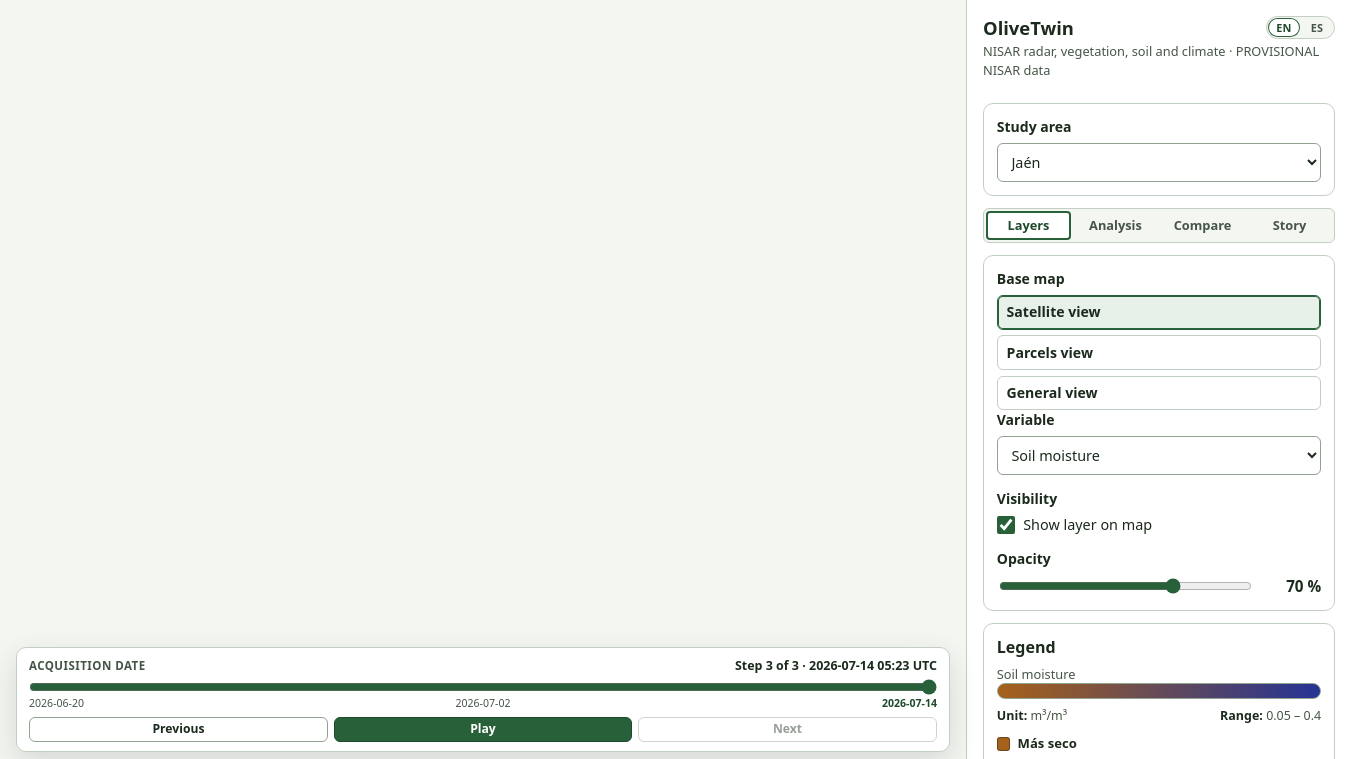
Scenario: App — idioma de la interfaz › arranca en inglés, traduce pestañas y avisos, y el selector cambia a español
Expected: the heading "OliveTwin" is shown, [983,16,1074,39]
Expected: the elements with class "ot-tabs__tab" read "Layers", "Analysis", "Compare", "Story", in this order, [986,211,1071,240]; [1073,211,1158,240]; [1160,211,1245,240]; [1247,211,1332,240]
Click the button "ES" at (1317, 28), box [1301,18,1333,37]
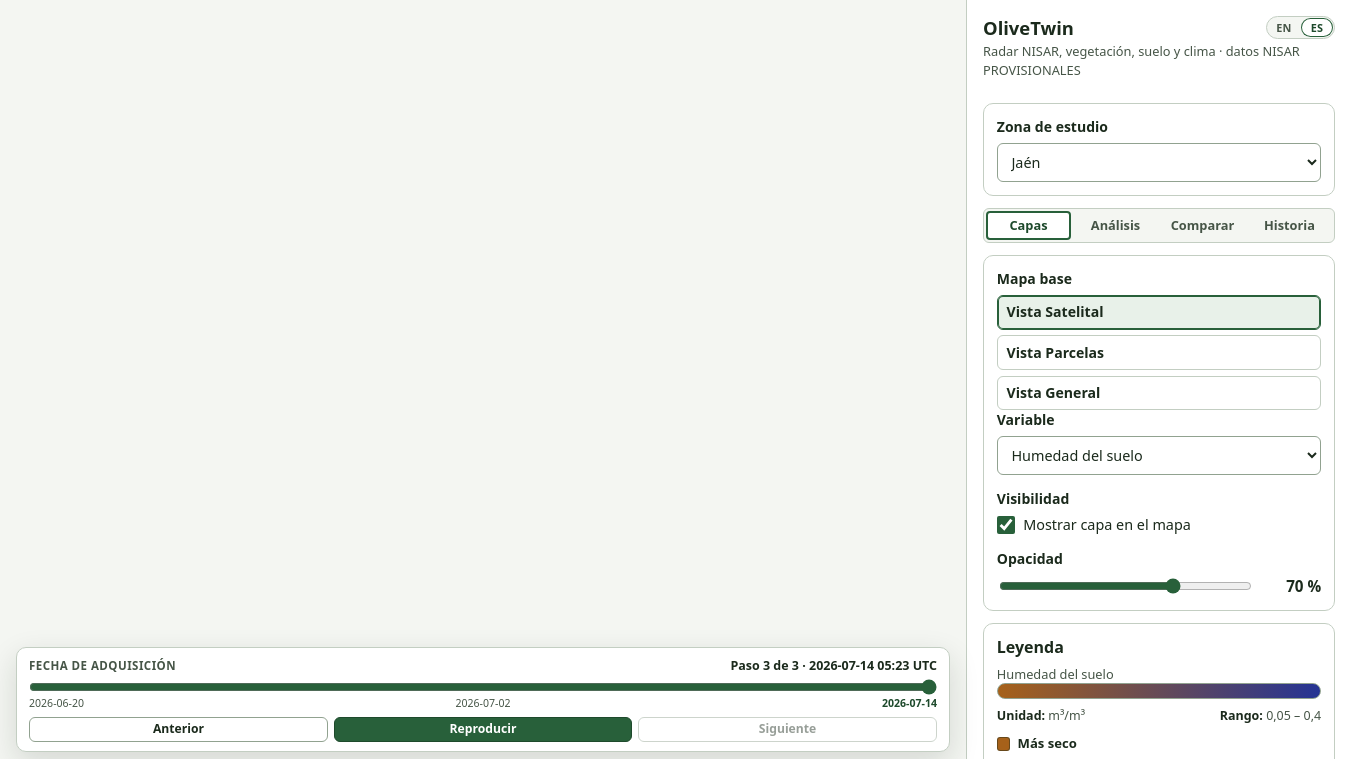
Expected: the text "Radar NISAR, vegetación, suelo y clima · datos NISAR PROVISIONALES" is shown, [983,42,1335,79]
Expected: the elements with class "ot-tabs__tab" read "Capas", "Análisis", "Comparar", "Historia", in this order, [986,211,1071,240]; [1073,211,1158,240]; [1160,211,1245,240]; [1247,211,1332,240]
Expected: the text "Paso 3 de 3" is shown, [730,657,937,674]
